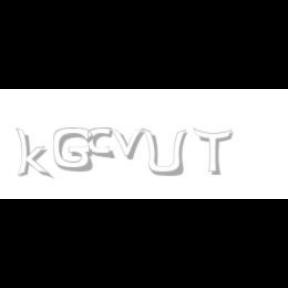G: (53, 128, 93, 172)
T: (193, 128, 233, 176)
U: (142, 128, 186, 178)
c: (88, 128, 116, 160)
k: (15, 128, 53, 180)
v: (108, 128, 148, 160)
